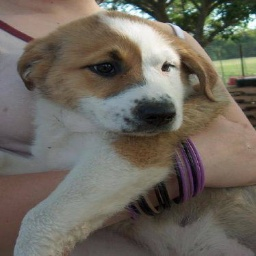dog: (16, 9, 250, 255)
